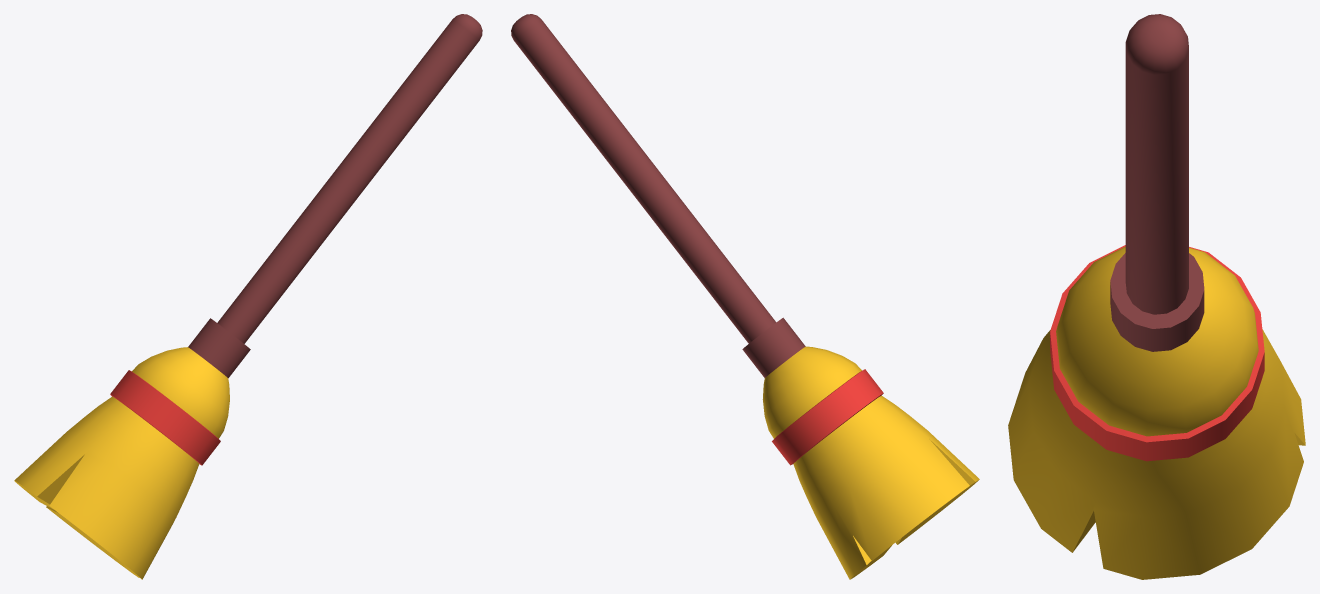
Rendered from broom.glb.
The picture shows the model from 3 angles, left to right: view 1: azimuth 30°, elevation 25°; view 2: azimuth 150°, elevation 25°; view 3: azimuth 270°, elevation 25°; orthographic projection. The views are drawn at different scales.
Parts seen in each view (by area): view 1: Circle.2607; view 2: Circle.2607; view 3: Circle.2607.
Part boxes in pixels (x1=…): Circle.2607: x1=14, y1=14, x2=482, y2=579; Circle.2607: x1=511, y1=14, x2=979, y2=579; Circle.2607: x1=1008, y1=14, x2=1305, y2=579.
Bounding box in the file's own units: 2.06 × 2.06 × 0.6466.
1 material, 1 textured.
